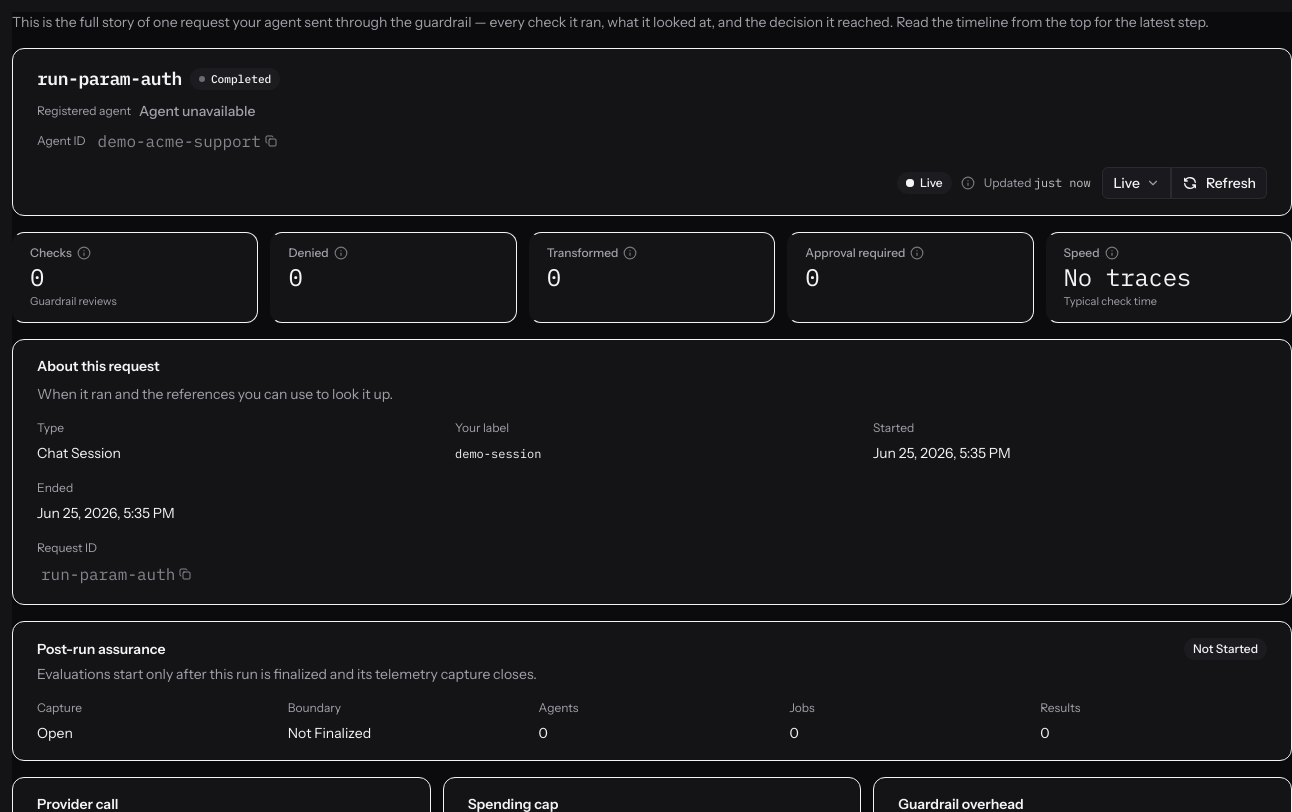
Scenario: RunDetailLiveView › pauses live refresh after a failed run refresh
Click the button "Refresh": (1219, 183) [1172,167,1267,199]
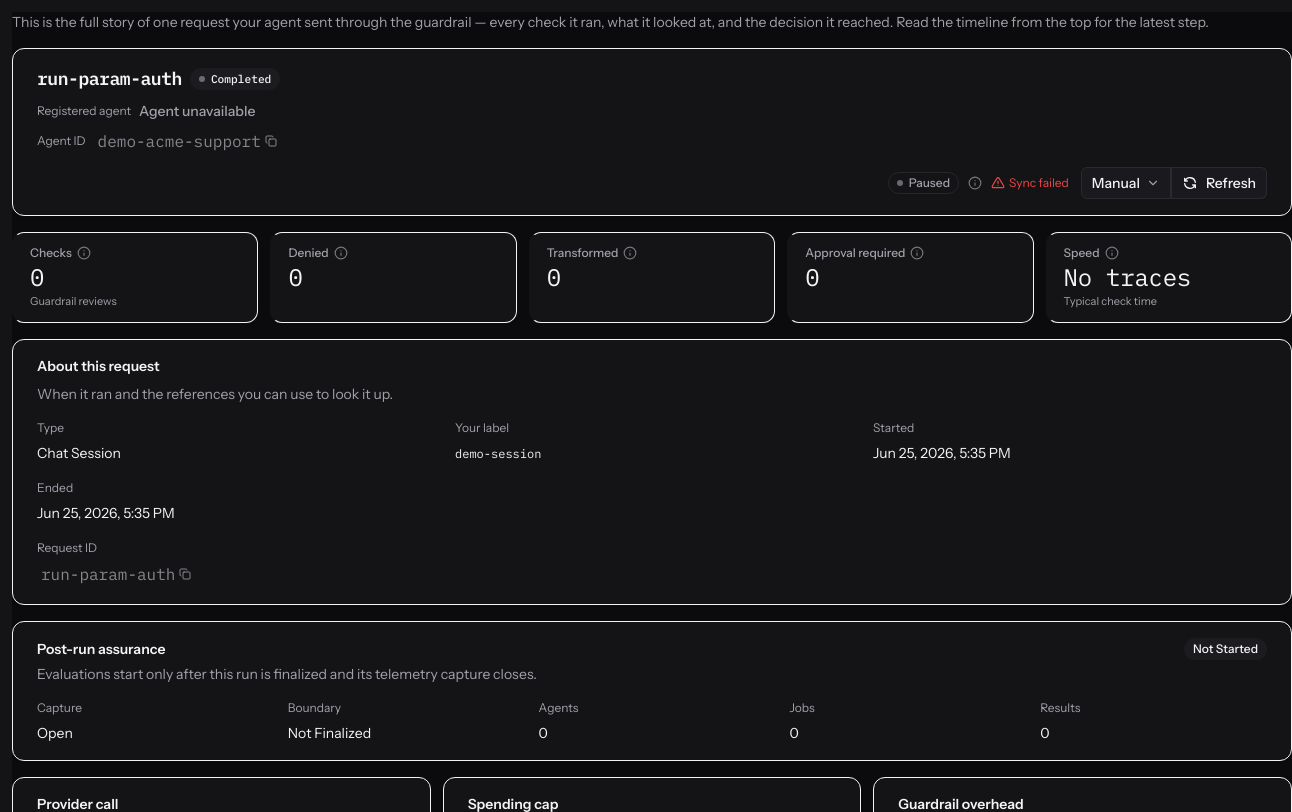
Expected: the button "Manual" is shown, [1081,167,1171,199]
Expected: the text "Sync failed" is shown, [1009,175,1069,191]
